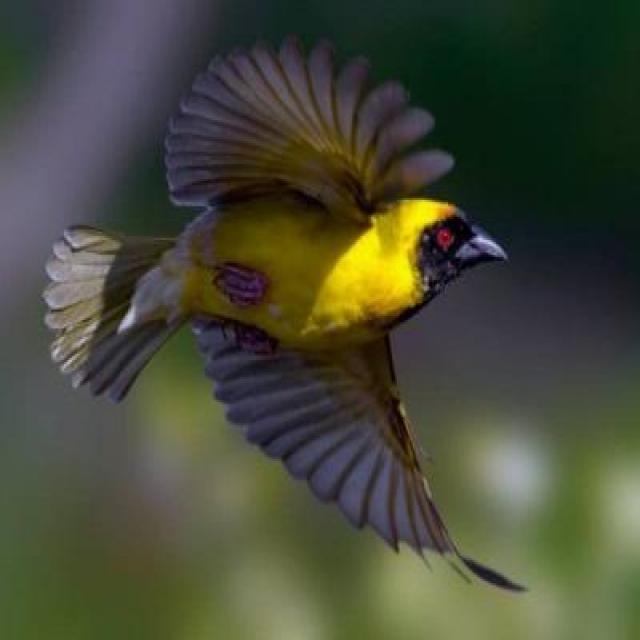birds: (37, 27, 534, 608)
